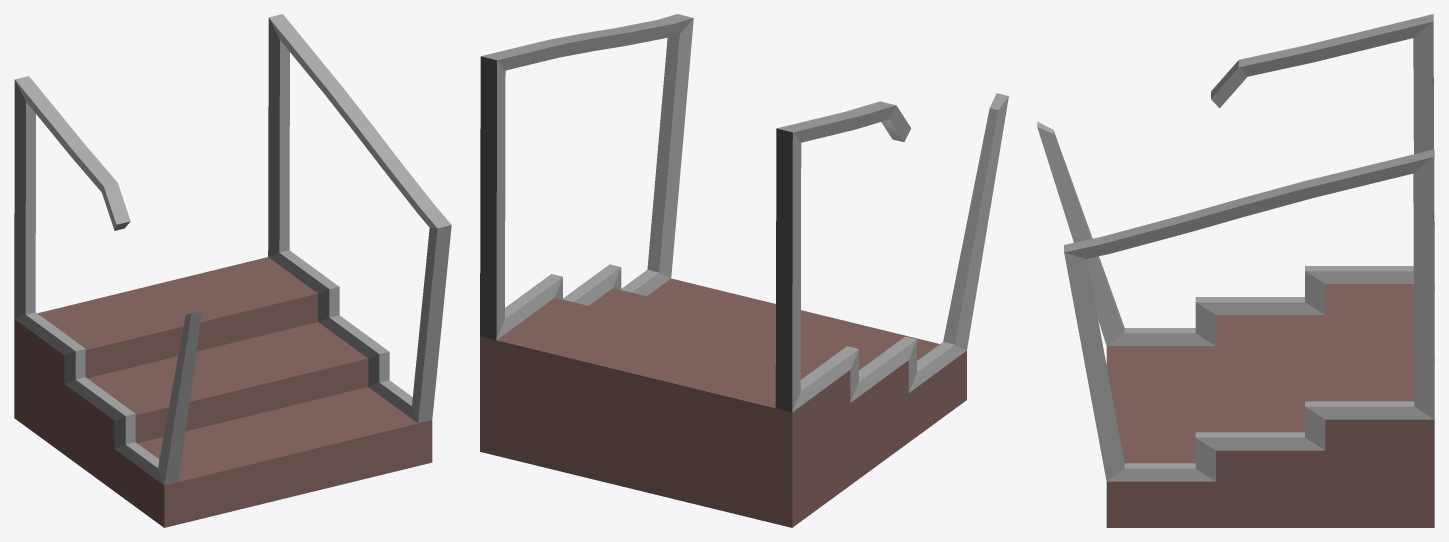
The model's file is stairs.fbx.
3 renders of one model, left to right at view 1: azimuth 30°, elevation 25°; view 2: azimuth 150°, elevation 25°; view 3: azimuth 270°, elevation 25°, orthographic. The views are drawn at different scales.
Parts seen in each view (by area): view 1: Escada; view 2: Escada; view 3: Escada.
Boxes of the visible parts, bbox=[...] form: Escada: bbox=[14, 14, 451, 527]; Escada: bbox=[480, 14, 1008, 527]; Escada: bbox=[1037, 14, 1434, 527].
Size of the model in its own units: 40.75 by 47.08 by 48.48.
